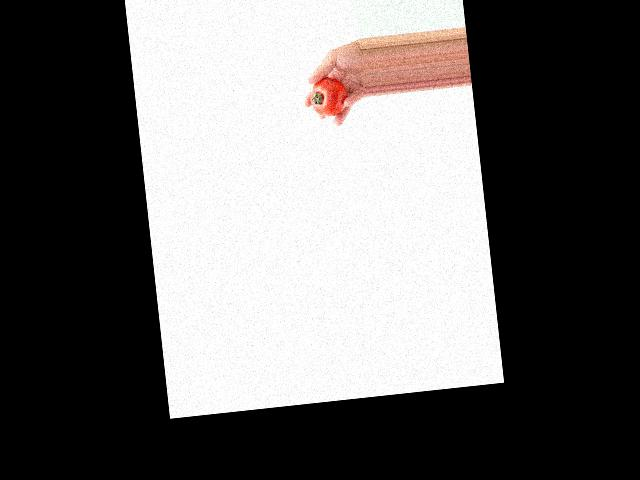tomato: (308, 75, 349, 118)
